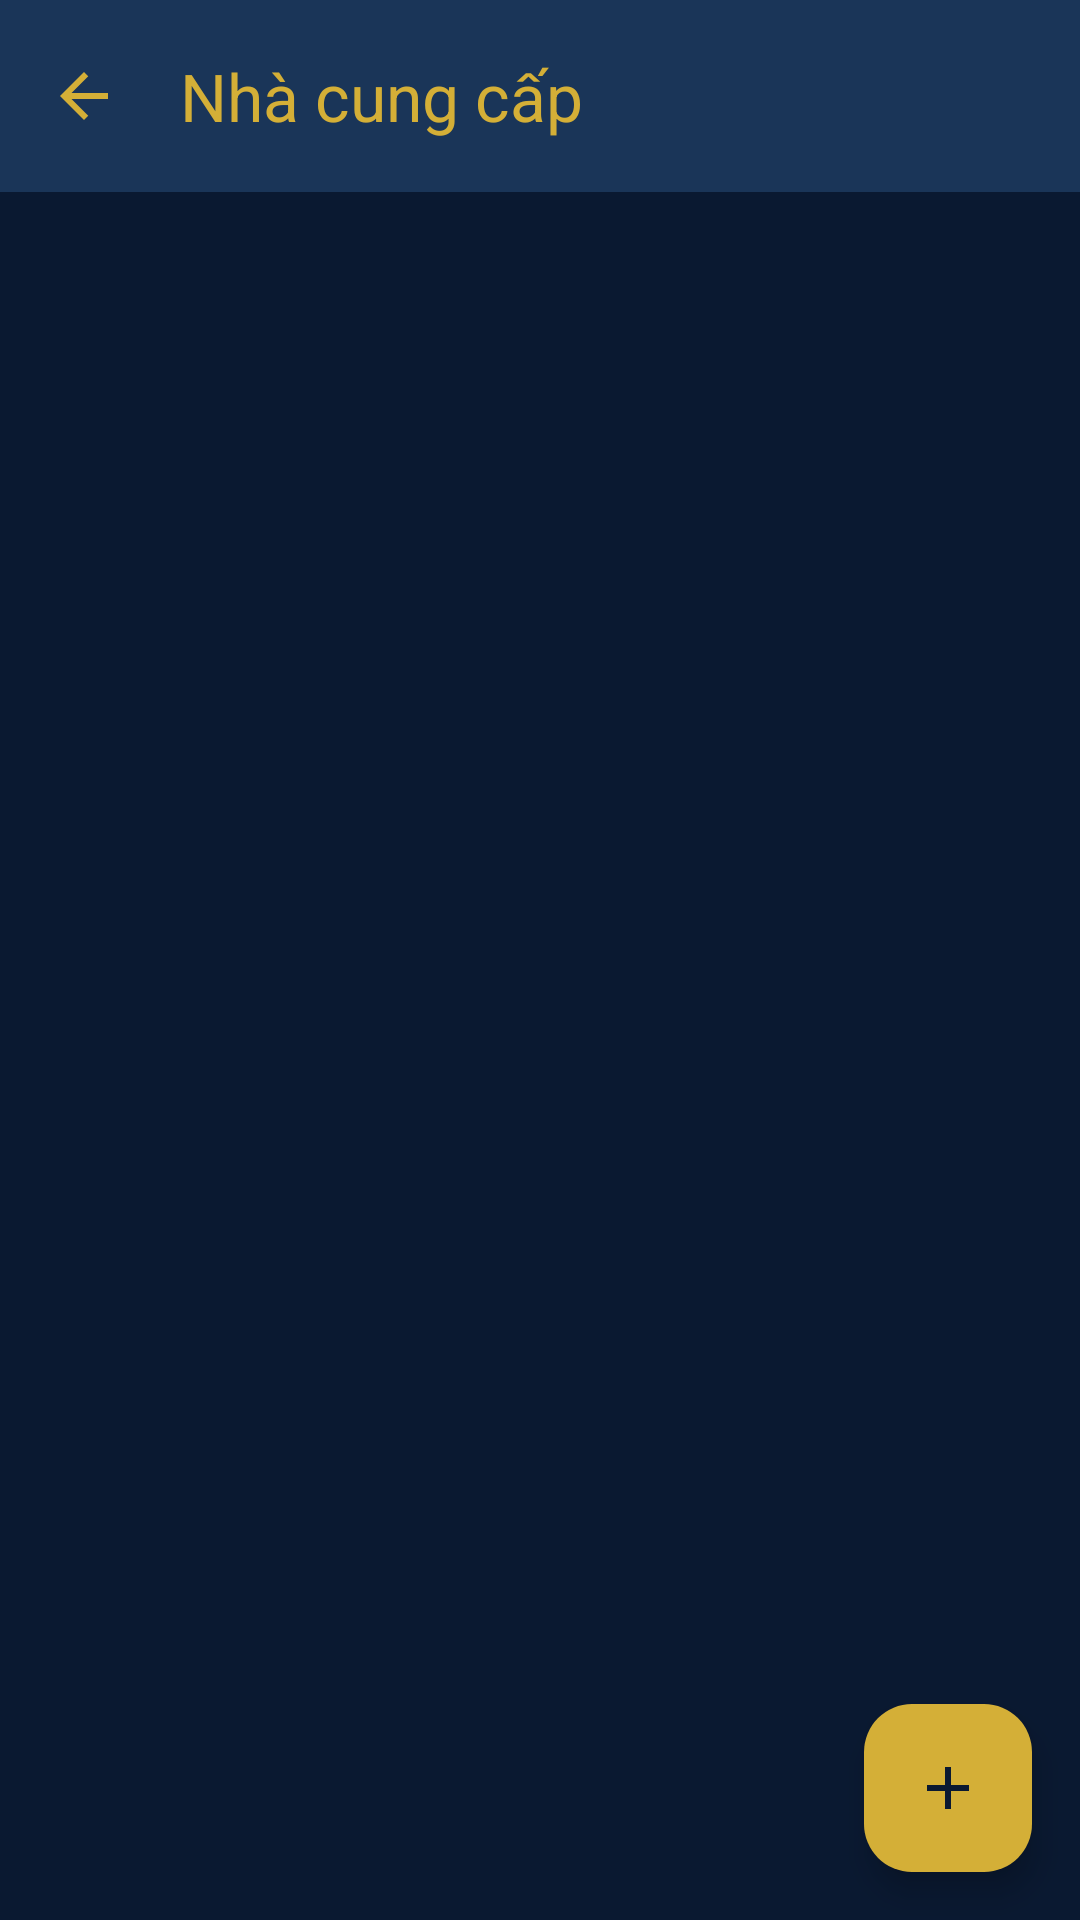

Icon click points for this 1080 × 1920 phone screenshot, format (x,y):
Thêm nhà cung cấp: (948,1788)
